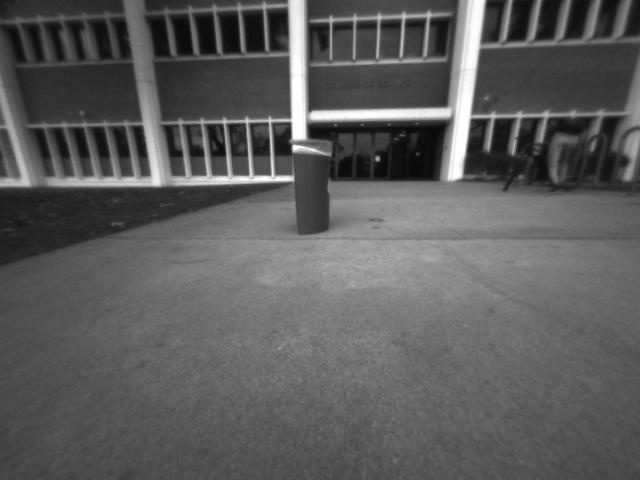trashcan: (288, 132, 340, 239)
